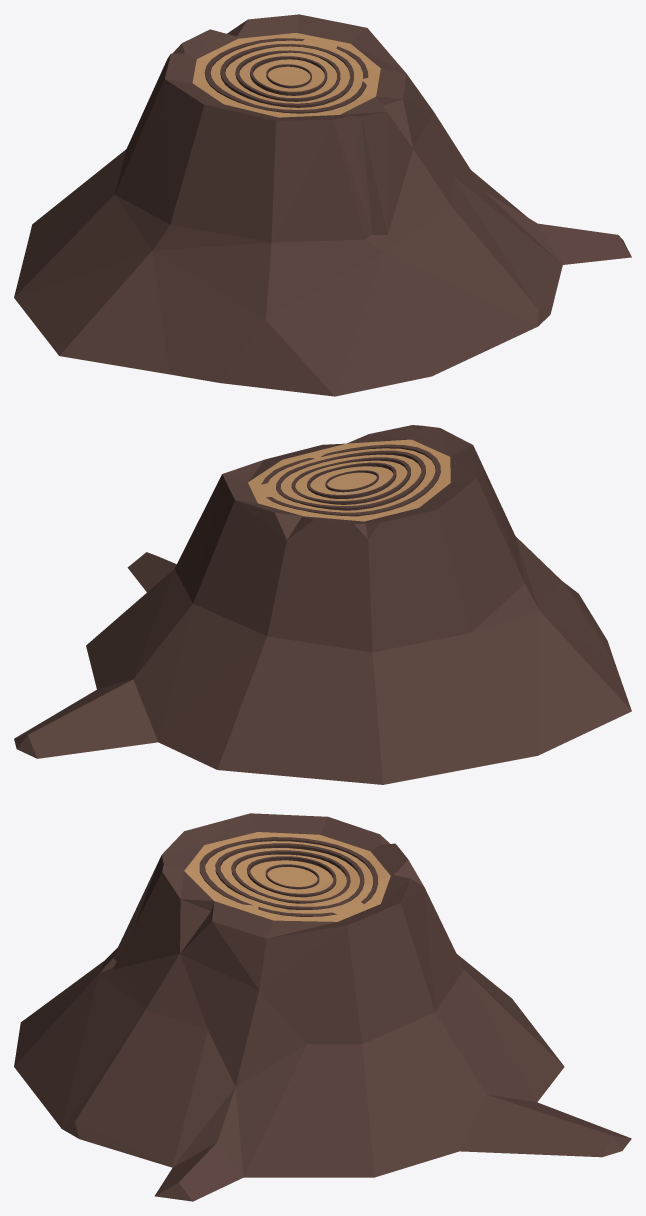
Rendered from Stump 2.fbx.
3 renders of one model, top to bottom at view 1: azimuth 30°, elevation 25°; view 2: azimuth 150°, elevation 25°; view 3: azimuth 270°, elevation 25°, orthographic. The views are drawn at different scales.
Visible parts, largest first — view 1: Stump 2; view 2: Stump 2; view 3: Stump 2.
Part boxes in pixels (left/top/right/bottom): Stump 2: left=14, top=14, right=631, bottom=396; Stump 2: left=14, top=425, right=631, bottom=784; Stump 2: left=14, top=813, right=631, bottom=1201.
Bounding box in the file's own units: 2.2 × 0.8092 × 2.23.
